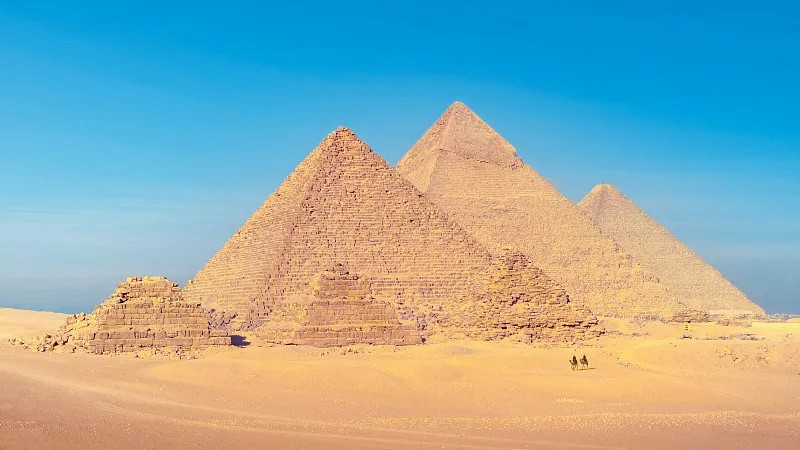Pyramid: (396, 101, 704, 319), (179, 126, 492, 326), (577, 183, 765, 316), (439, 247, 606, 336), (52, 275, 231, 353), (260, 263, 422, 348)
